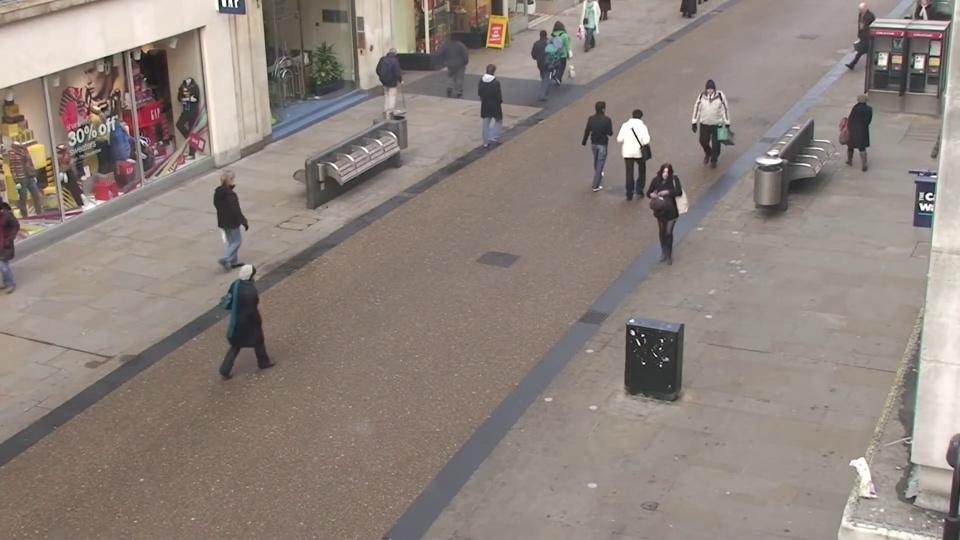pedestrian: (241, 251, 291, 381), (221, 163, 263, 269), (647, 163, 683, 272), (838, 87, 875, 177), (626, 103, 656, 195), (589, 95, 618, 186), (692, 82, 722, 169), (484, 61, 512, 141), (837, 2, 868, 72), (381, 43, 408, 118), (534, 25, 559, 96), (445, 27, 470, 98), (551, 17, 575, 86)
